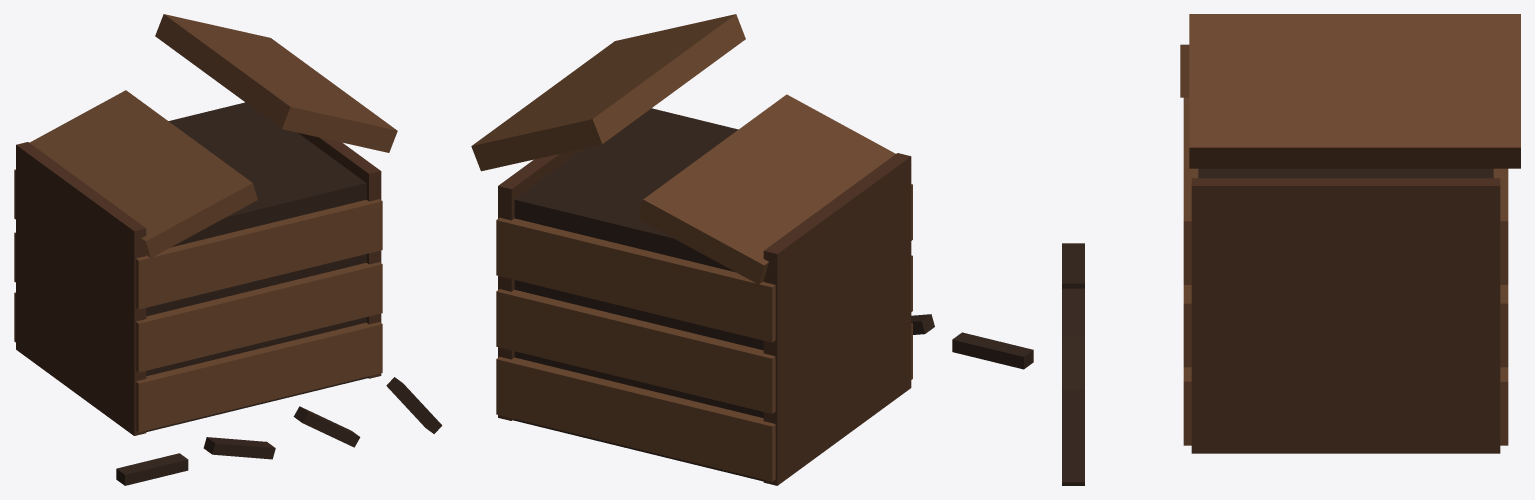
Rendered from Splintered_Crate.obj.
3 views of the same model, side by side, from view 1: azimuth 30°, elevation 25°; view 2: azimuth 150°, elevation 25°; view 3: azimuth 270°, elevation 25° (orthographic). The views are drawn at different scales.
Size of the model in its own units: 1.07 by 0.9996 by 1.01.
